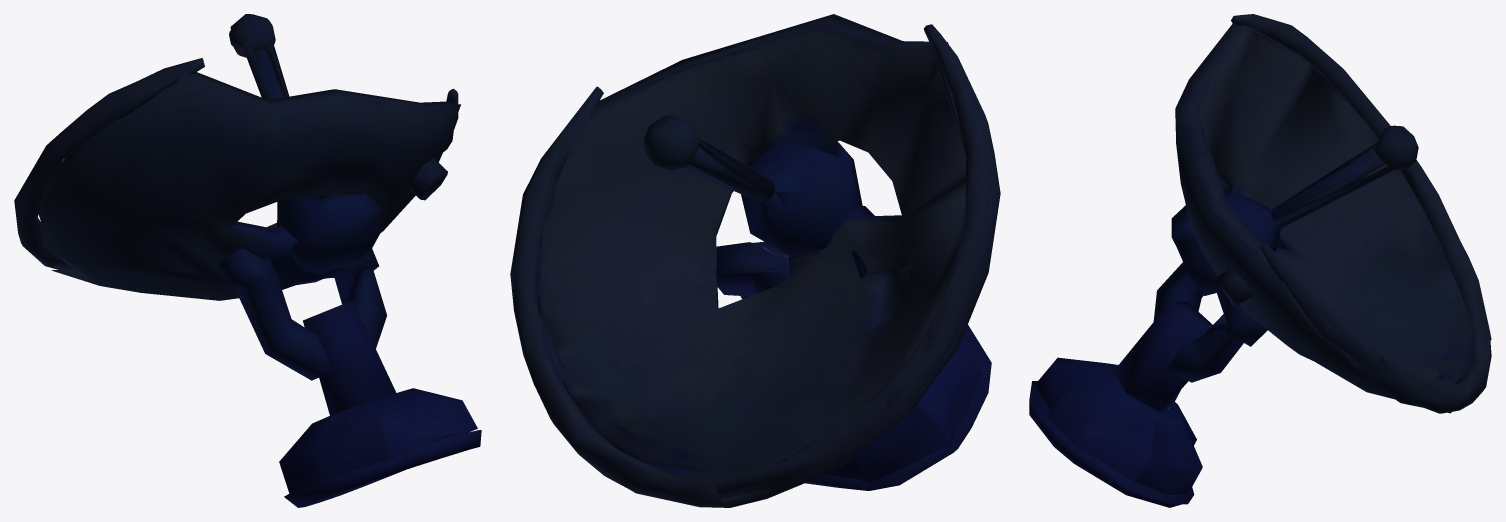
File: antenna-low.glb
3 views of the same model, side by side, from view 1: azimuth 30°, elevation 25°; view 2: azimuth 150°, elevation 25°; view 3: azimuth 270°, elevation 25° (orthographic). The views are drawn at different scales.
Visible parts, largest first — view 1: antenna; view 2: antenna; view 3: antenna.
Boxes of the visible parts, x1,y1,x2,y2 form: antenna: [14, 14, 481, 507]; antenna: [510, 14, 1000, 507]; antenna: [1029, 14, 1491, 507].
Bounding box in the file's own units: 0.9648 × 1 × 0.9922.
1 material, 1 textured.
